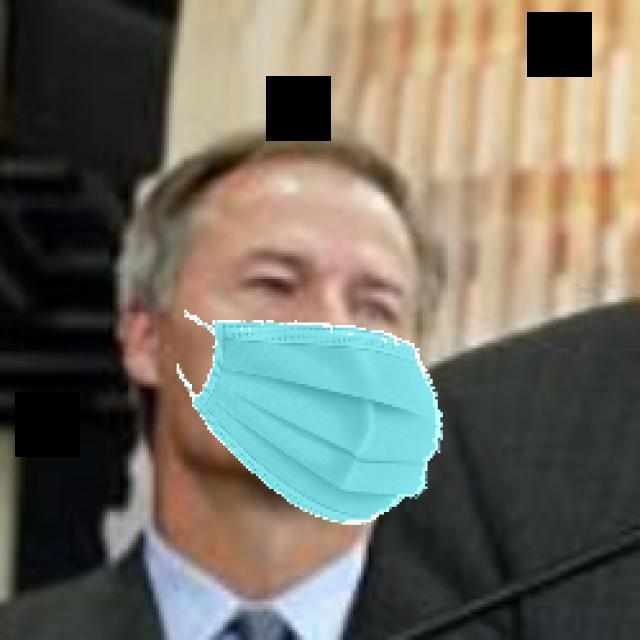surgical: (153, 212, 424, 514)
